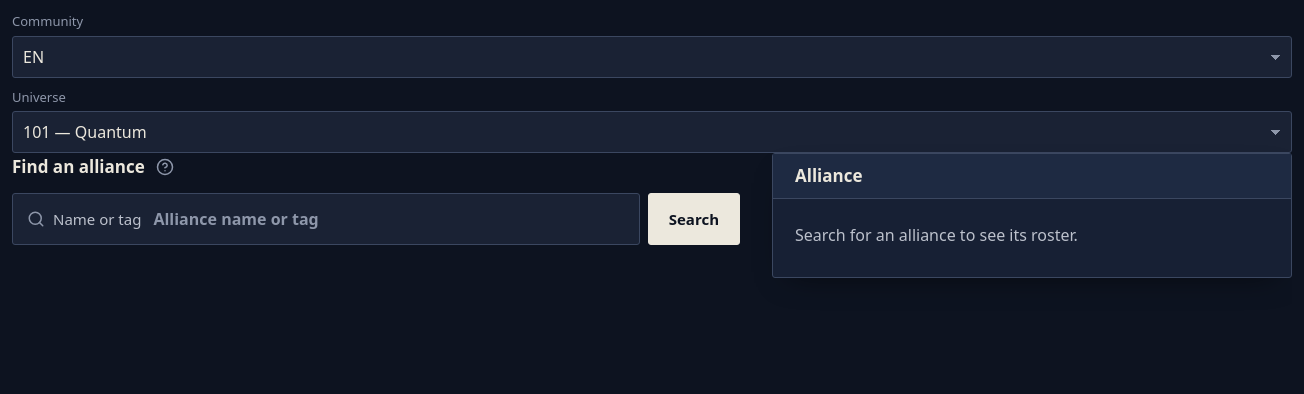
Test: <Alliances /> › lists the matches with their tag and member count
The image size is (1304, 394).
Check: the dropdown labelled "Community" is shown, box [12,36,1292,78]
Type "twa" into the search field. click: (389, 219)
box: [153,195,625,243]
Then press Enter
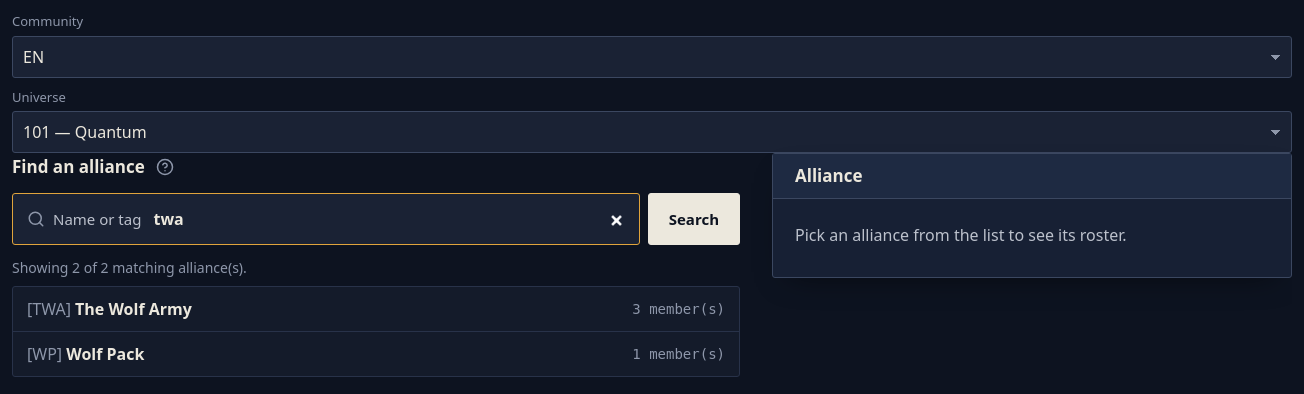
Check: the text "The Wolf Army" is shown, box [75,298,192,320]
Check: the text "[TWA]" is shown, box [27,298,71,320]
Check: the text "3 member(s)" is shown, box [632,298,725,320]
